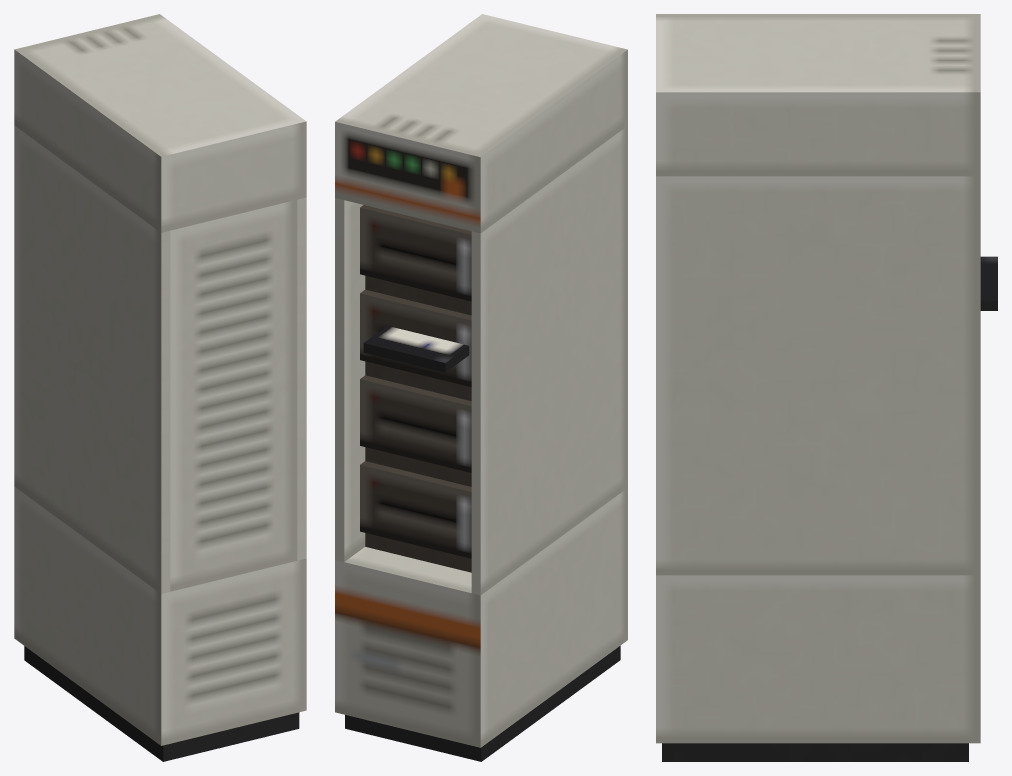
Rendered from era5_floppy_bank.obj.
3 renders of one model, left to right at view 1: azimuth 30°, elevation 25°; view 2: azimuth 150°, elevation 25°; view 3: azimuth 270°, elevation 25°, orthographic. The views are drawn at different scales.
Parts seen in each view (by area): view 1: era5_floppy_bank; view 2: era5_floppy_bank; view 3: era5_floppy_bank.
Part boxes in pixels (left/top/right/bottom): era5_floppy_bank: left=14, top=14, right=306, bottom=761; era5_floppy_bank: left=335, top=14, right=627, bottom=761; era5_floppy_bank: left=656, top=14, right=997, bottom=761.
Bounding box in the file's own units: 1 × 4 × 1.84.
